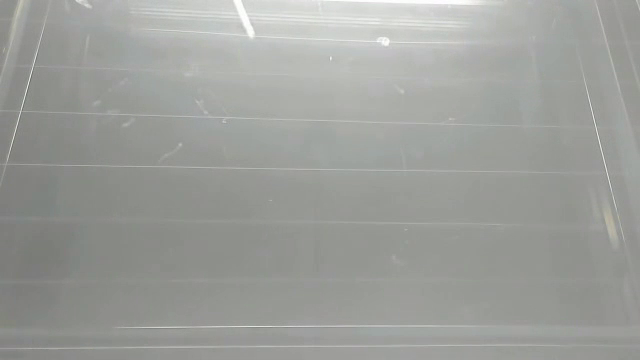alpha: (228, 1, 260, 42), (374, 33, 395, 51), (75, 1, 95, 12)
